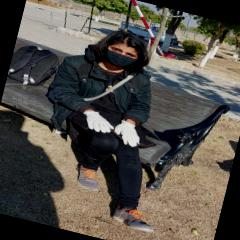gloved: (112, 119, 144, 148), (82, 110, 116, 135)
